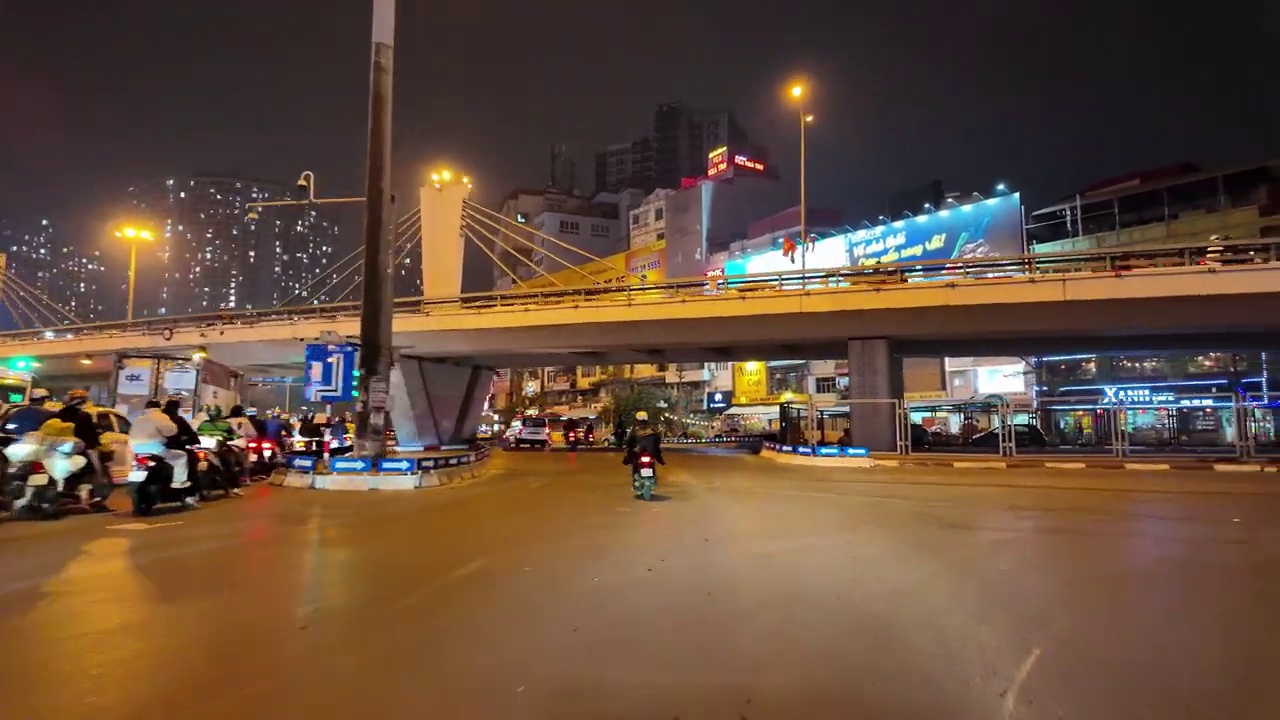acesa: (117, 220, 159, 249), (430, 166, 460, 189), (784, 78, 809, 103)
